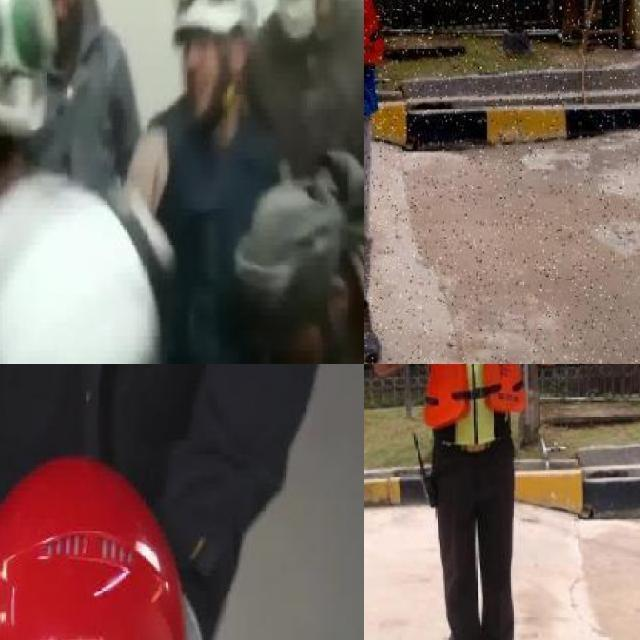apron: (174, 581, 215, 640)
